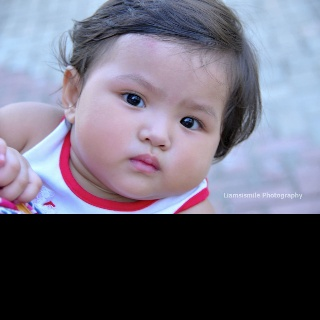without_mask: (74, 30, 234, 201)
